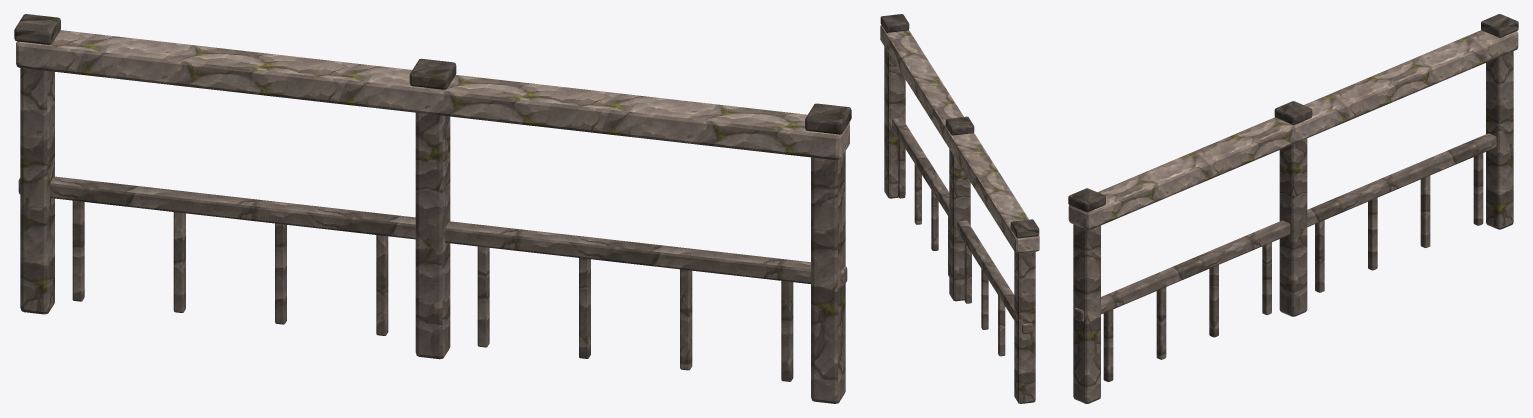
The model's file is railing_diagonal__cut_stone.glb.
The picture shows the model from 3 angles, left to right: view 1: azimuth 30°, elevation 25°; view 2: azimuth 150°, elevation 25°; view 3: azimuth 270°, elevation 25°; orthographic projection. The views are drawn at different scales.
Visible parts, largest first — view 1: model; view 2: model; view 3: model.
Part boxes in pixels (box(x1,y1,x2,y2)): model: box(14, 14, 851, 403); model: box(880, 14, 1039, 403); model: box(1068, 14, 1518, 403).
Size of the model in its own units: 2.09 by 1.04 by 2.09.
3 materials, 3 textured.
